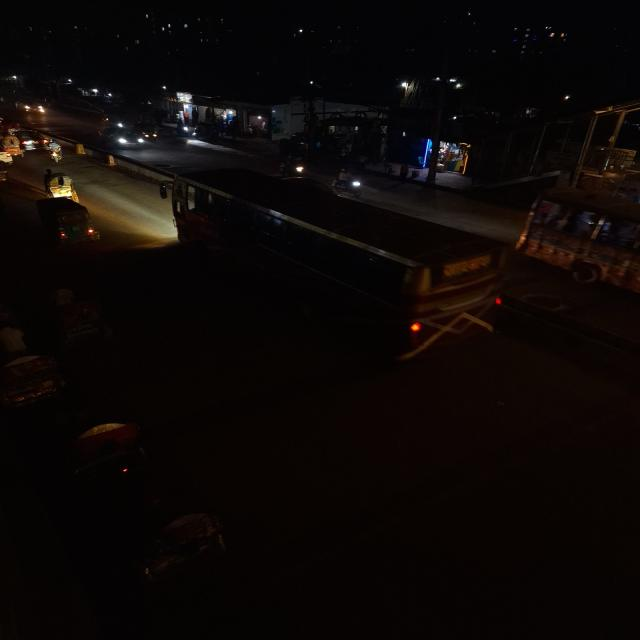bus: (164, 166, 510, 347), (514, 186, 640, 300)
car: (97, 125, 148, 151)
cng: (31, 197, 105, 249)
motorcycle: (274, 141, 311, 177), (332, 164, 368, 197), (44, 140, 66, 164)
pedestrian: (154, 180, 173, 200)
rickshaw: (113, 507, 238, 593), (0, 321, 72, 421), (39, 285, 120, 349), (40, 168, 81, 200), (0, 135, 25, 162), (0, 155, 13, 188)
